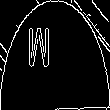M_S: (44, 30, 66, 80)
